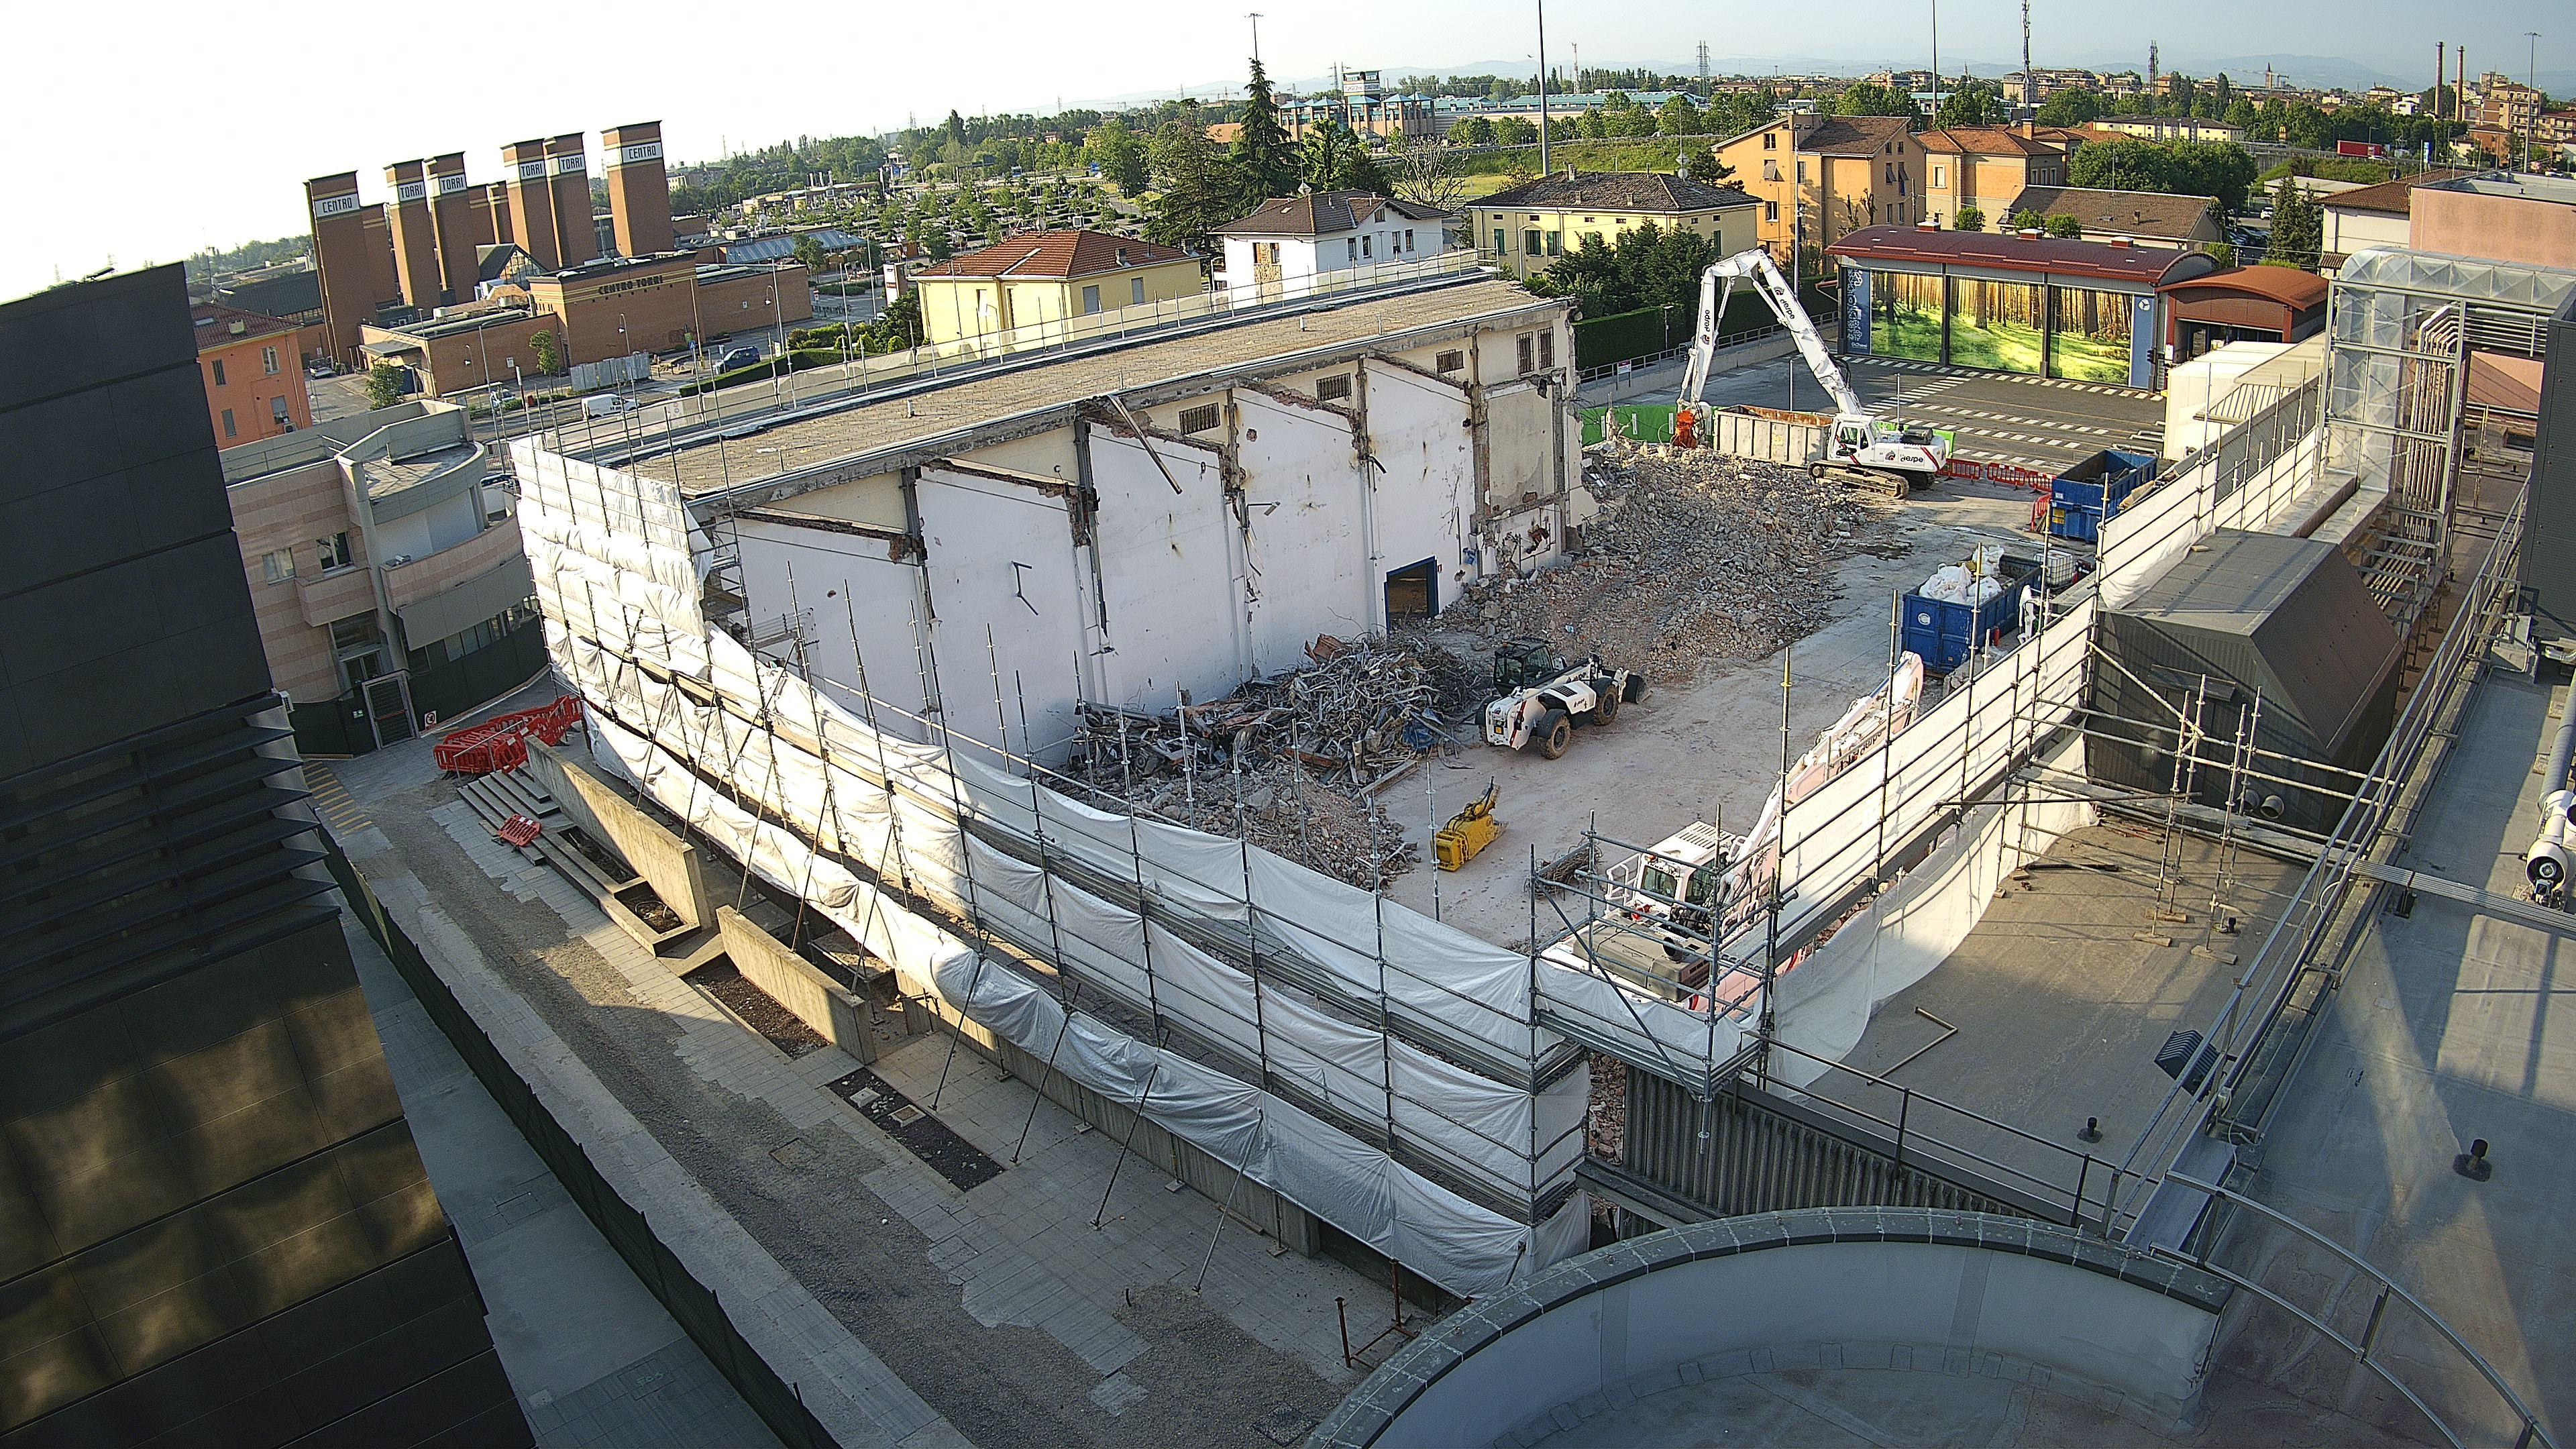Cars: (711, 347, 761, 373)
excavator: (1537, 646, 1923, 1028), (1670, 244, 1946, 499), (1474, 637, 1652, 759)
